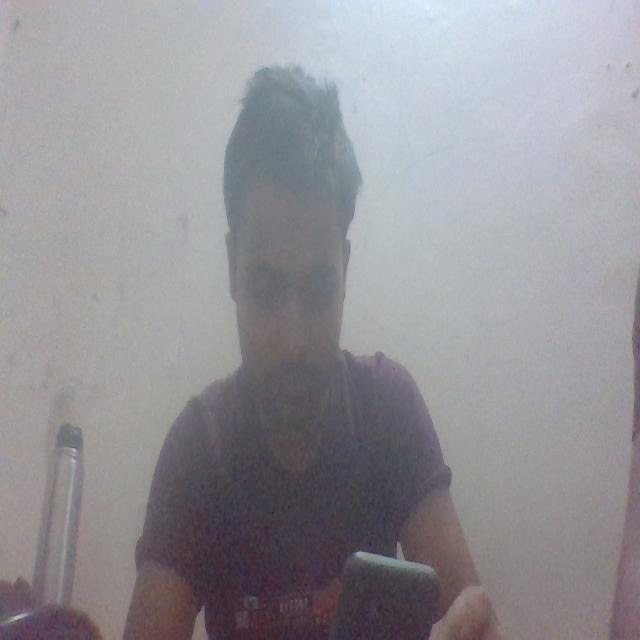Phone: (329, 549, 445, 640)
